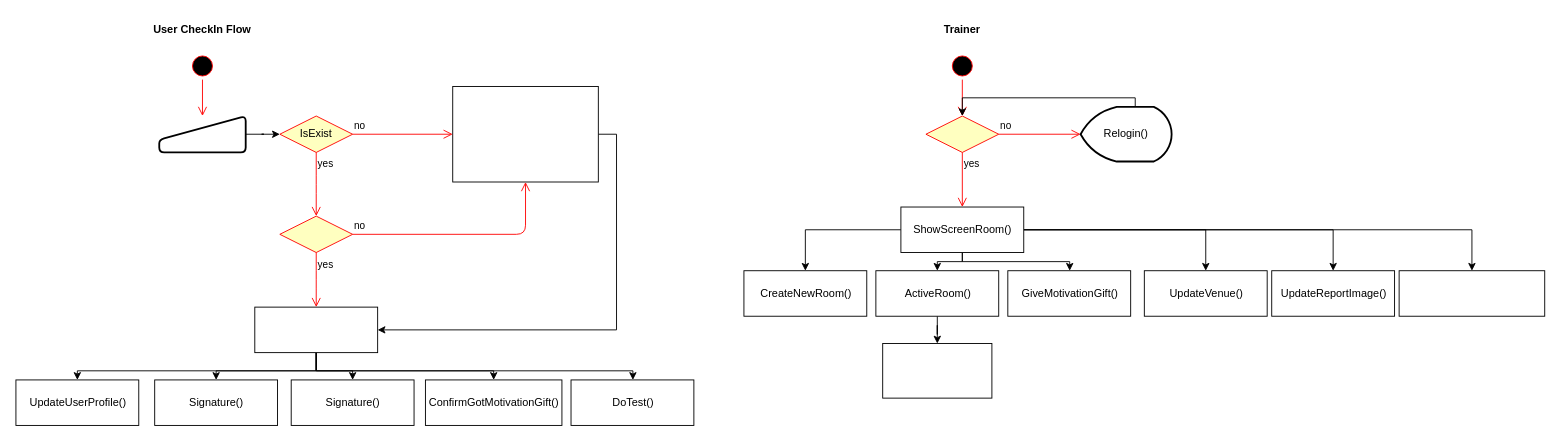
Image size: 1561x441. Some labels were removed from this diagram. The centre of each missing label's shape, as x and y in pixels:
"ChangeDayDelayGiveGift()" goes at point 1471,293.
"CreateUserProfile() Fullname Position Account Store MNV" goes at point 525,134.
"IsYouAre()" goes at point 316,234.
"Login" goes at point 962,133.
"ShowQRCode()" goes at point 937,370.
"ShowScreenCheckIn()" goes at point 316,329.
"Tel" goes at point 202,134.
